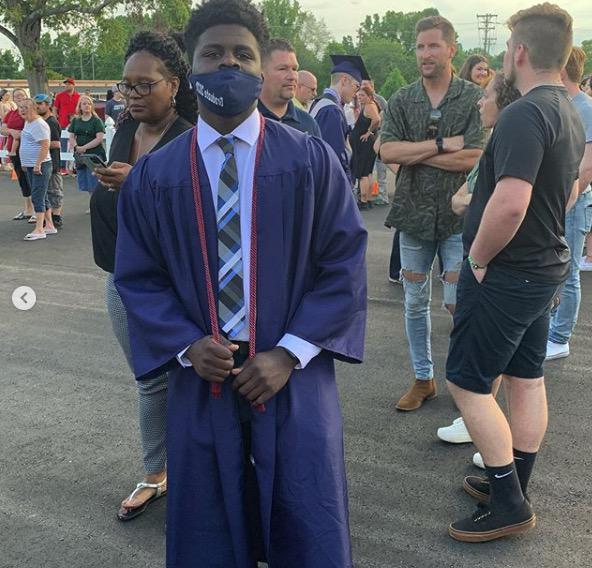mask_weared_incorrect: (191, 43, 257, 106)
without_mask: (119, 66, 162, 119), (413, 30, 445, 77), (268, 57, 298, 103), (502, 39, 521, 83), (475, 87, 494, 127), (344, 76, 363, 103), (300, 77, 318, 105), (469, 63, 488, 84), (15, 101, 32, 121), (33, 100, 50, 116), (79, 98, 94, 116), (358, 90, 369, 105), (14, 92, 27, 102), (63, 83, 74, 92), (2, 92, 10, 102)
